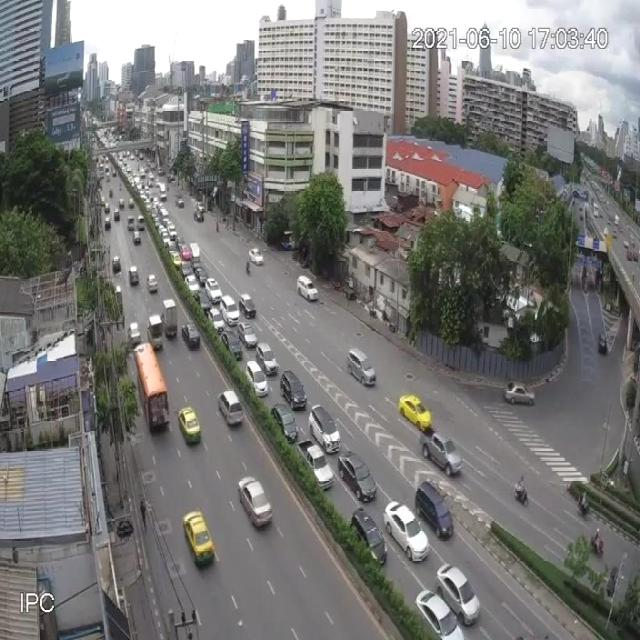Bus: (134, 341, 170, 434)
Car: (435, 562, 479, 626), (383, 500, 429, 561), (414, 588, 464, 640), (350, 507, 388, 569), (414, 482, 455, 539), (338, 449, 377, 503), (183, 509, 216, 569), (237, 475, 272, 530), (308, 404, 341, 453), (398, 394, 432, 432), (346, 347, 376, 387), (270, 402, 298, 442), (280, 369, 307, 410), (218, 389, 244, 428), (178, 406, 202, 445), (246, 359, 270, 397), (504, 382, 536, 406), (255, 342, 278, 375), (220, 328, 242, 359), (237, 319, 258, 348), (220, 294, 239, 326), (297, 274, 318, 302), (181, 322, 201, 350), (148, 313, 164, 348), (207, 307, 224, 334), (239, 293, 256, 319), (195, 288, 212, 314), (205, 278, 222, 304), (184, 274, 200, 298), (129, 321, 141, 347), (248, 247, 264, 266), (194, 266, 209, 286), (180, 260, 193, 278), (146, 274, 158, 293), (128, 266, 139, 286), (598, 333, 608, 354), (162, 232, 172, 251), (172, 252, 182, 270), (193, 208, 204, 224), (175, 237, 187, 251), (112, 255, 121, 273), (169, 226, 178, 242), (133, 230, 141, 246), (127, 215, 135, 231), (137, 214, 145, 229), (196, 201, 205, 214), (104, 217, 111, 230), (113, 208, 120, 220), (166, 220, 173, 232), (128, 197, 135, 208), (104, 202, 110, 214), (118, 198, 125, 208), (100, 195, 105, 208), (603, 226, 609, 236), (155, 178, 161, 188), (612, 230, 617, 239), (109, 188, 113, 196)
Cycle: (515, 481, 528, 506), (590, 534, 604, 557), (246, 266, 250, 276)
Truck: (419, 426, 463, 478), (297, 438, 334, 490), (161, 298, 178, 340), (175, 194, 185, 208)
Van: (189, 242, 202, 272), (159, 208, 170, 227), (159, 183, 167, 202)
